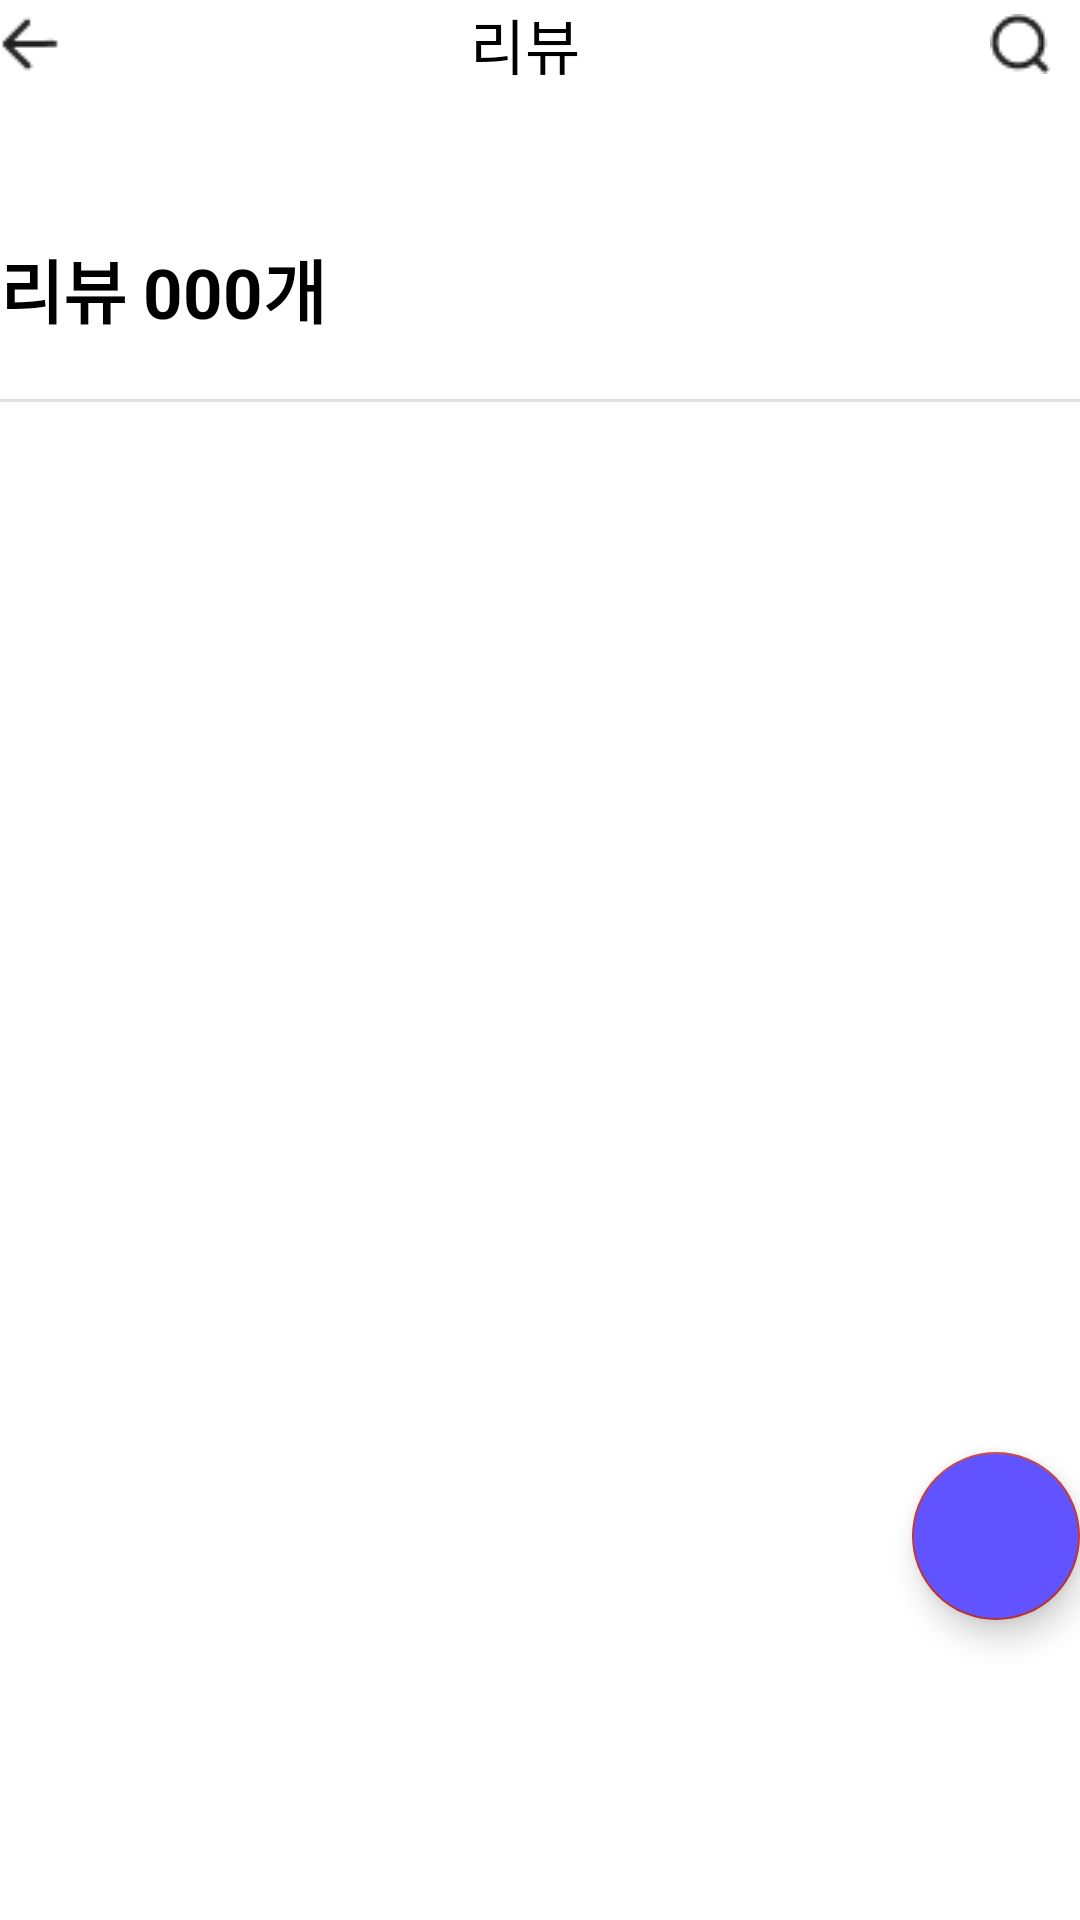

Icons on this 1080x1920 Android screen, each with its box as Rect(x1, y1, x2, y2):
backward: Rect(2, 17, 58, 71)
search: Rect(990, 14, 1050, 74)
